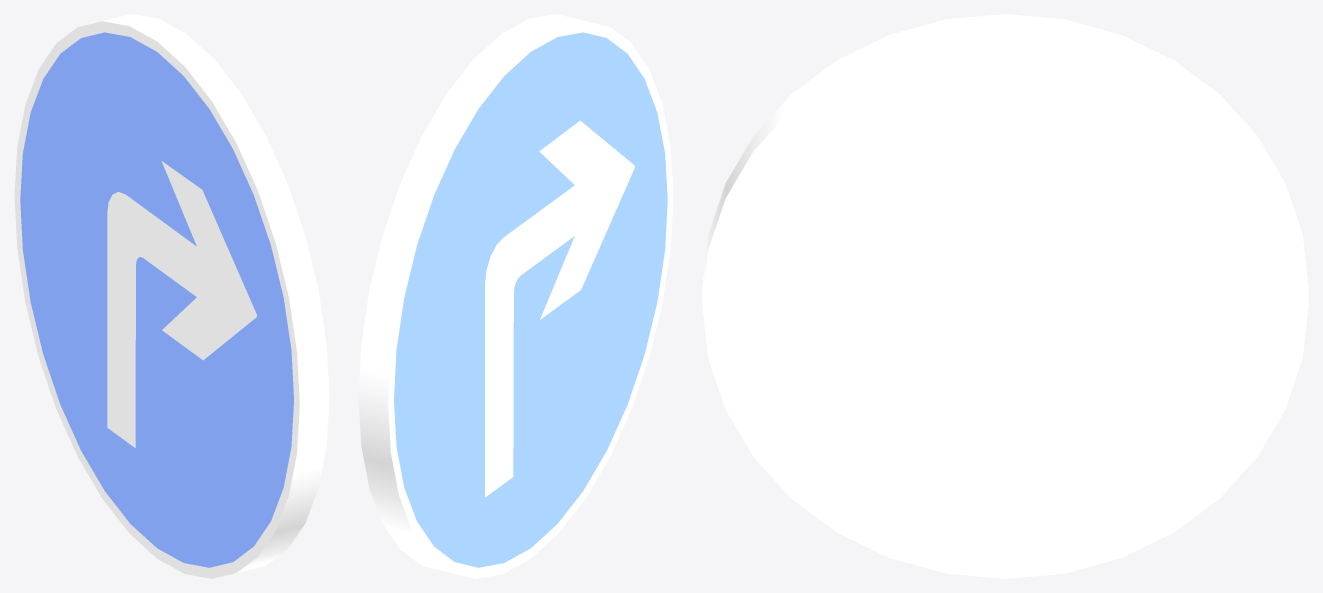
The model's file is Turn_Right.glb.
The picture shows the model from 3 angles, left to right: view 1: azimuth 30°, elevation 25°; view 2: azimuth 150°, elevation 25°; view 3: azimuth 270°, elevation 25°; orthographic projection. The views are drawn at different scales.
Visible parts, largest first — view 1: Turn_Right; view 2: Turn_Right; view 3: Turn_Right.
Part boxes in pixels (bbox=[...]): Turn_Right: bbox=[14, 14, 329, 578]; Turn_Right: bbox=[358, 14, 673, 578]; Turn_Right: bbox=[702, 14, 1308, 578].
Bounding box in the file's own units: 0.0643 × 1 × 1.
